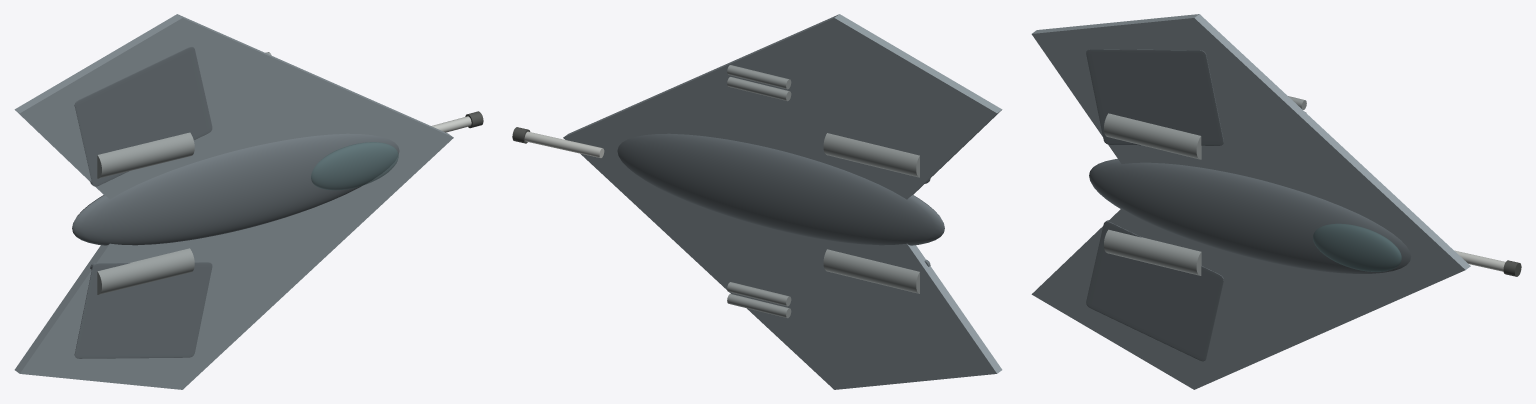
Rendered from s-x06-specter-reserveStrike-lod1.glb.
The picture shows the model from 3 angles, left to right: view 1: azimuth 30°, elevation 25°; view 2: azimuth 150°, elevation 25°; view 3: azimuth 330°, elevation 25°; orthographic projection.
Visible parts, largest first — view 1: flying_wing_planform, flying_wing_core, flying_wing_elevon_1, flying_wing_elevon_-1, flying_wing_canopy, flying_wing_engine_0, flying_wing_engine_1; view 2: flying_wing_planform, flying_wing_core, flying_wing_engine_0, flying_wing_engine_1, flying_wing_gun_barrel_0, flying_wing_-1_tube_1, flying_wing_-1_tube_2, flying_wing_1_tube_1, flying_wing_1_tube_2; view 3: flying_wing_planform, flying_wing_core, flying_wing_elevon_1, flying_wing_elevon_-1, flying_wing_canopy, flying_wing_engine_0, flying_wing_engine_1, flying_wing_gun_barrel_0.
Boxes of the visible parts, x1,y1,x2,y2 form: flying_wing_planform: (14, 14, 453, 389); flying_wing_core: (72, 133, 399, 245); flying_wing_elevon_1: (74, 46, 212, 186); flying_wing_elevon_-1: (74, 262, 212, 358); flying_wing_canopy: (311, 142, 398, 190); flying_wing_engine_0: (97, 248, 194, 294); flying_wing_engine_1: (97, 132, 194, 178); flying_wing_planform: (563, 14, 1002, 389); flying_wing_core: (617, 133, 944, 245); flying_wing_engine_0: (823, 249, 919, 293); flying_wing_engine_1: (823, 133, 919, 177); flying_wing_gun_barrel_0: (524, 131, 604, 157); flying_wing_-1_tube_1: (727, 294, 791, 318); flying_wing_-1_tube_2: (727, 282, 791, 306); flying_wing_1_tube_1: (727, 77, 791, 101); flying_wing_1_tube_2: (727, 65, 791, 89); flying_wing_planform: (1031, 14, 1470, 389); flying_wing_core: (1089, 159, 1410, 273); flying_wing_elevon_1: (1086, 49, 1223, 145); flying_wing_elevon_-1: (1086, 220, 1223, 361); flying_wing_canopy: (1313, 223, 1401, 271); flying_wing_engine_0: (1104, 229, 1201, 275); flying_wing_engine_1: (1104, 113, 1201, 159); flying_wing_gun_barrel_0: (1454, 250, 1505, 271).
Size of what is drawn, in the model's own units: 15.29 by 11.48 by 1.47.
